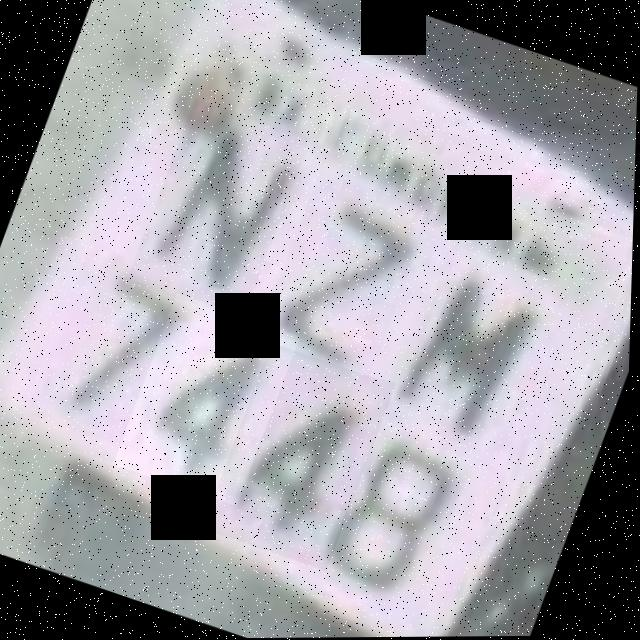4: (204, 343, 398, 572), (114, 293, 303, 507)
7: (28, 249, 206, 453)
8: (307, 401, 496, 615)
N: (127, 97, 312, 321), (370, 239, 559, 453)
Z: (257, 171, 433, 381)
